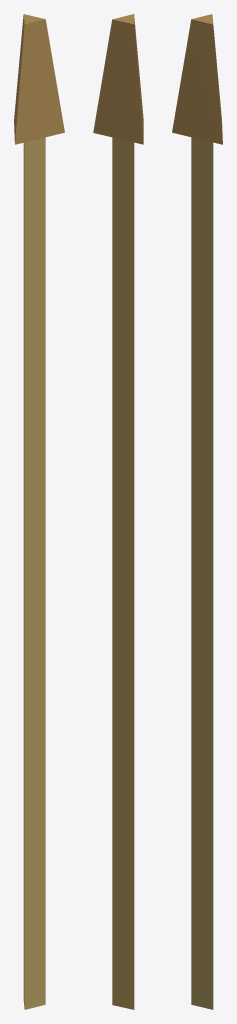
Rendered from field_wheat_stalk_dark.obj.
3 renders of one model, left to right at view 1: azimuth 90°, elevation 25°; view 2: azimuth 150°, elevation 25°; view 3: azimuth 270°, elevation 25°, orthographic.
Visible parts, largest first — view 1: Stalk, Ear; view 2: Stalk, Ear; view 3: Stalk, Ear.
Part boxes in pixels (x1=…): Stalk: x1=23, y1=137, x2=45, y2=1009; Ear: x1=14, y1=14, x2=64, y2=144; Stalk: x1=112, y1=137, x2=134, y2=1009; Ear: x1=93, y1=14, x2=143, y2=144; Stalk: x1=191, y1=137, x2=213, y2=1009; Ear: x1=172, y1=14, x2=222, y2=144.
Bounding box in the file's own units: 0.06 × 1.13 × 0.053.
